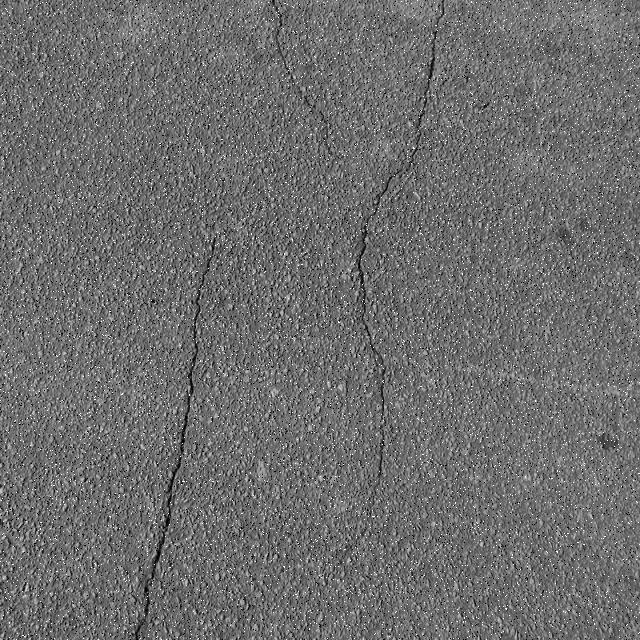moderate crack: (141, 226, 216, 638), (580, 390, 628, 442), (182, 307, 203, 406), (0, 507, 29, 556)
severe crack: (182, 8, 443, 632), (388, 290, 612, 544), (444, 3, 640, 198), (1, 2, 209, 171), (4, 446, 162, 639), (378, 2, 446, 190), (352, 213, 389, 489), (266, 2, 325, 147), (131, 549, 166, 628), (368, 160, 408, 224), (170, 407, 191, 477), (344, 254, 370, 306), (371, 442, 387, 486), (377, 361, 387, 382), (476, 98, 492, 111)
